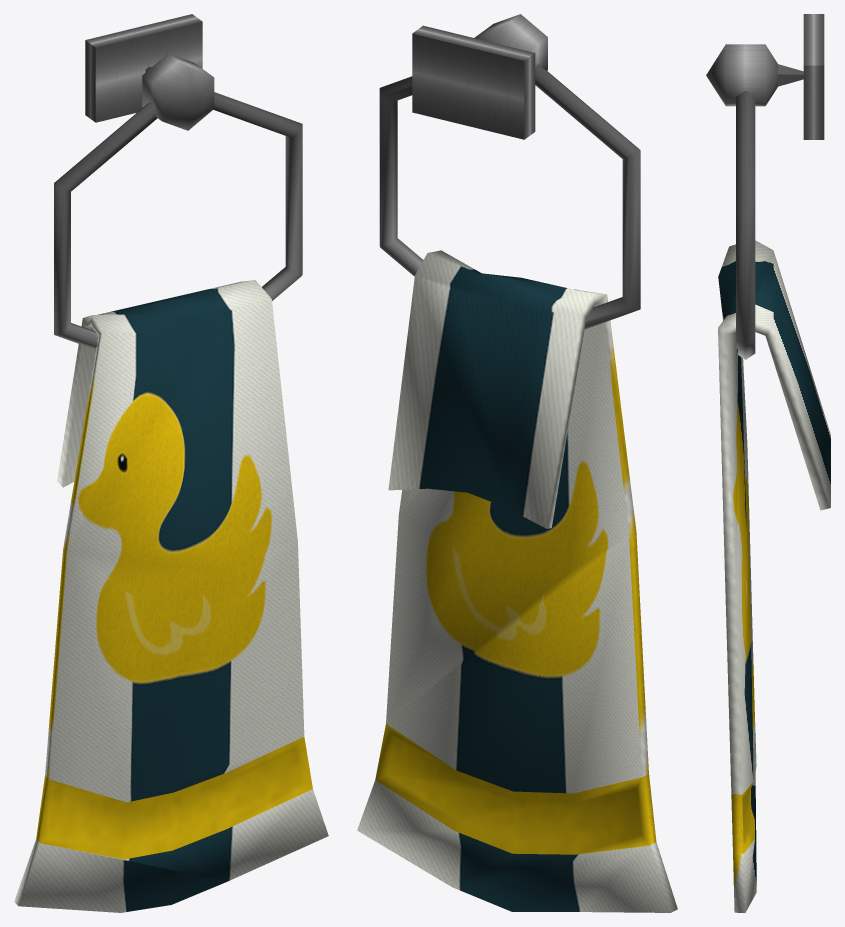
The model's file is Kitchen_Towel_C.FBX.
3 renders of one model, left to right at view 1: azimuth 30°, elevation 25°; view 2: azimuth 150°, elevation 25°; view 3: azimuth 270°, elevation 25°, orthographic. The views are drawn at different scales.
Parts seen in each view (by area): view 1: Hand_Towel001; view 2: Hand_Towel001; view 3: Hand_Towel001.
Boxes of the visible parts, x1,y1,x2,y2 form: Hand_Towel001: (14,14,328,912); Hand_Towel001: (357,14,677,912); Hand_Towel001: (706,14,830,912).
Bounding box in the file's own units: 34.08 × 90.19 × 12.18.
